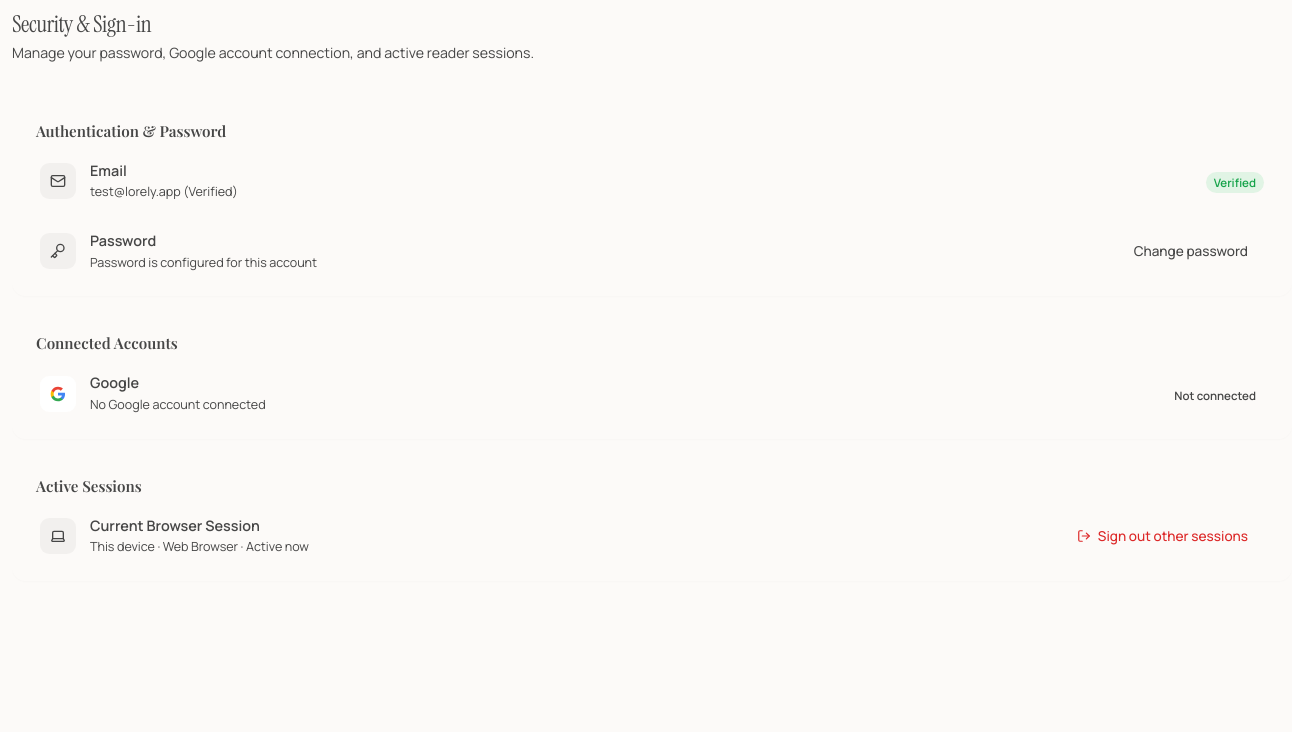
Test: Phase 4: Security & Google Password Setup (GitHub-Style) › signs out other sessions via supabase.auth.signOut({ scope: others })
Step 1. Click the button with aria-label "Sign out of other sessions" → (1162, 536), box x1=1061 y1=517 x2=1264 y2=555
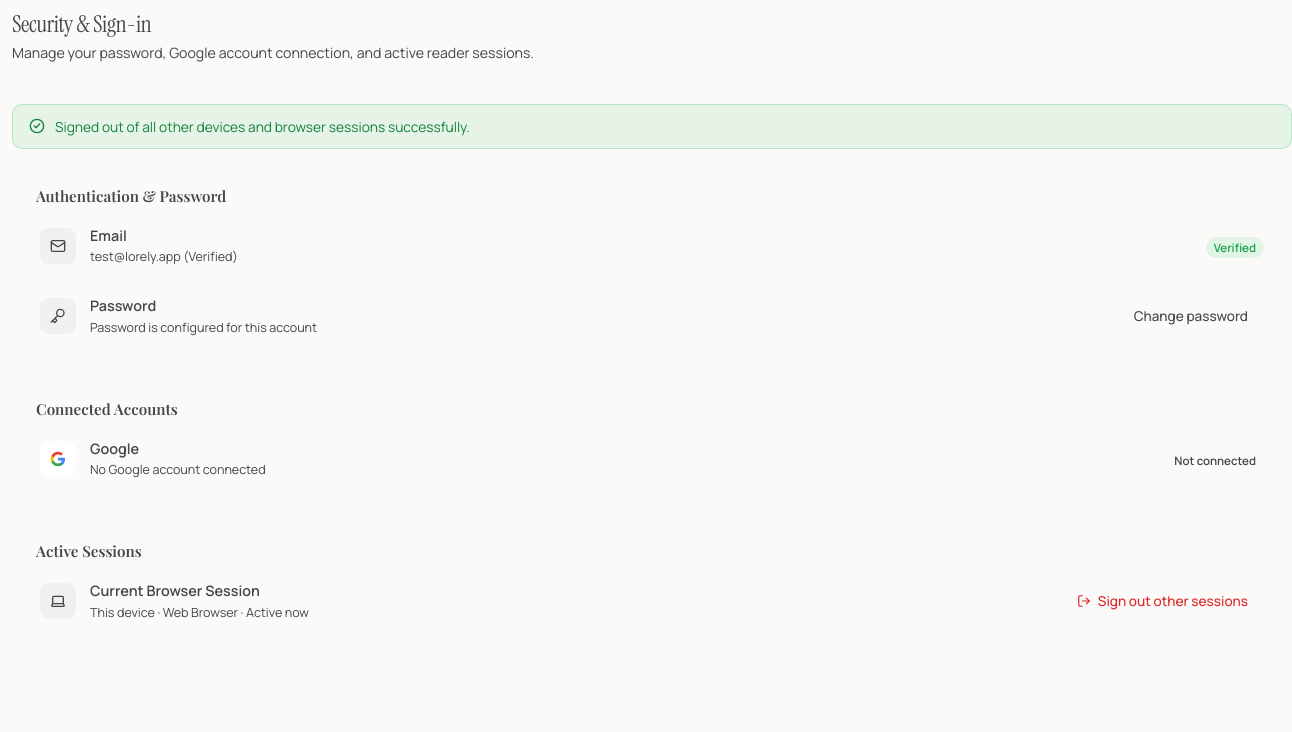
Check: the text "Signed out of all other devices and browser sessions successfully" is shown, box x1=55 y1=117 x2=470 y2=136
